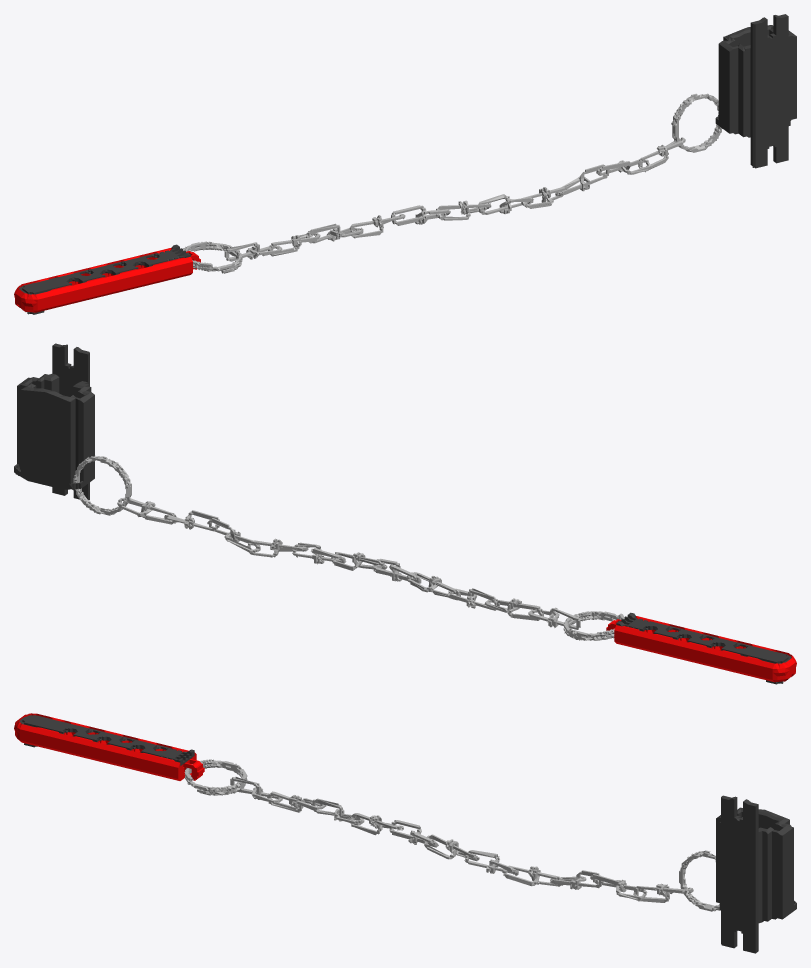
Rendered from schmersal-sz40.glb.
The picture shows the model from 3 angles, top to bottom: view 1: azimuth 30°, elevation 25°; view 2: azimuth 150°, elevation 25°; view 3: azimuth 330°, elevation 25°; orthographic projection. The views are drawn at different scales.
Visible parts, largest first — view 1: sz40_OEM_color_0, sz40_OEM_color_1, sz40_OEM_color_2; view 2: sz40_OEM_color_0, sz40_OEM_color_1, sz40_OEM_color_2; view 3: sz40_OEM_color_0, sz40_OEM_color_1, sz40_OEM_color_2.
Part boxes in pixels (<box>): sz40_OEM_color_0: <box>19,14,796,314</box>; sz40_OEM_color_1: <box>183,93,722,273</box>; sz40_OEM_color_2: <box>14,247,200,312</box>; sz40_OEM_color_0: <box>14,343,791,684</box>; sz40_OEM_color_1: <box>73,455,624,640</box>; sz40_OEM_color_2: <box>606,616,796,682</box>; sz40_OEM_color_0: <box>19,715,796,953</box>; sz40_OEM_color_1: <box>184,759,720,911</box>; sz40_OEM_color_2: <box>14,713,204,780</box>.
Size of the model in its own units: 0.438 by 0.08 by 0.039.
